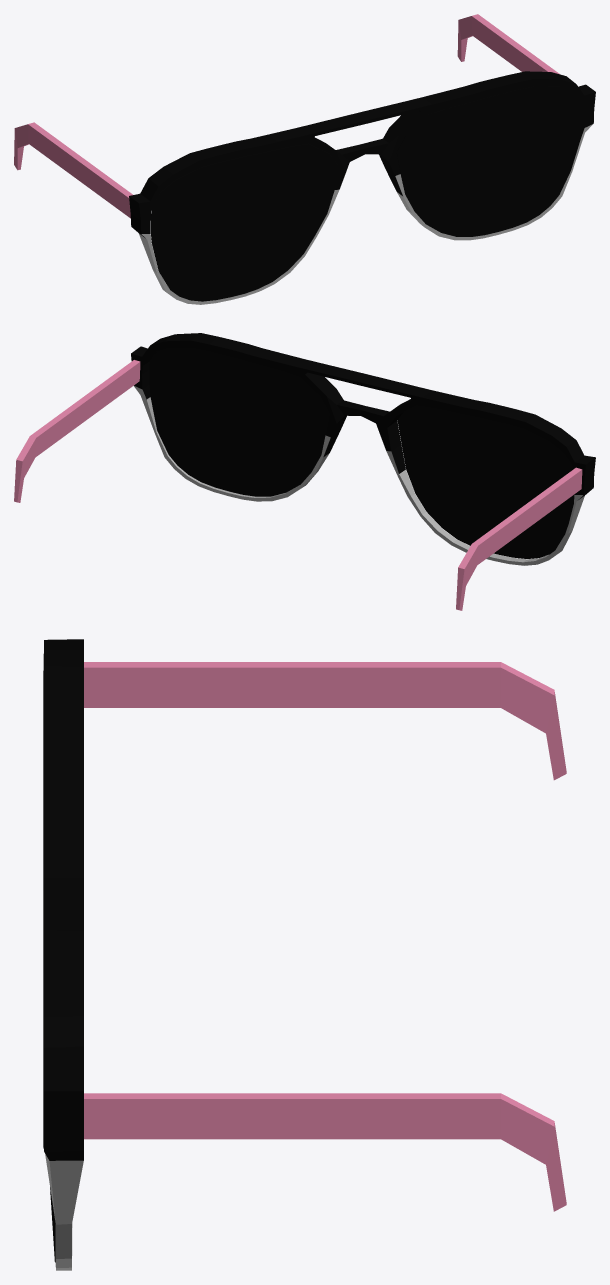
The model's file is naocare3.fbx.
3 renders of one model, top to bottom at view 1: azimuth 30°, elevation 25°; view 2: azimuth 150°, elevation 25°; view 3: azimuth 270°, elevation 25°, orthographic. The views are drawn at different scales.
Visible parts, largest first — view 1: Cylinder.006, Cylinder.004, Cube.007, Cube.006; view 2: Cylinder.006, Cylinder.004, Cube.007, Cube.006; view 3: Cylinder.004, Cube.006, Cube.007.
Boxes of the visible parts, left/top/right/bottom form: Cylinder.006: left=151, top=86, right=584, bottom=301; Cylinder.004: left=129, top=71, right=595, bottom=304; Cube.007: left=14, top=122, right=132, bottom=218; Cube.006: left=457, top=14, right=559, bottom=74; Cylinder.006: left=149, top=348, right=574, bottom=558; Cylinder.004: left=131, top=333, right=595, bottom=565; Cube.007: left=456, top=467, right=582, bottom=610; Cube.006: left=14, top=360, right=140, bottom=502; Cylinder.004: left=44, top=639, right=83, bottom=1270; Cube.006: left=84, top=1093, right=566, bottom=1211; Cube.007: left=84, top=662, right=566, bottom=780.
Bounding box in the file's own units: 78.25 × 24.7 × 38.98.
